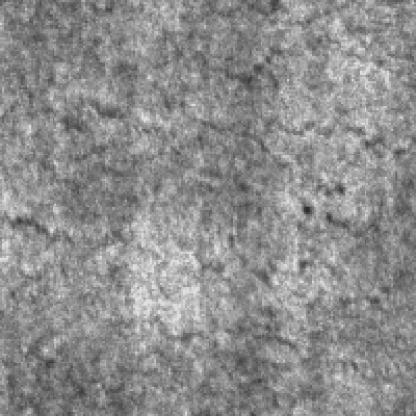crazing: (18, 214, 410, 308), (64, 40, 372, 152), (22, 318, 316, 398)
